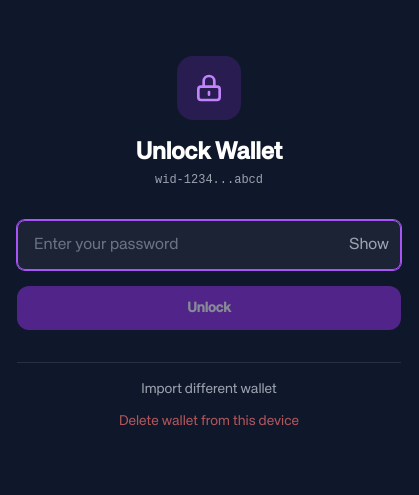
UnlockWalletPage › should show delete confirmation dialog
Click the button "Delete wallet from this device" at (209, 420), box [17,410,401,430]
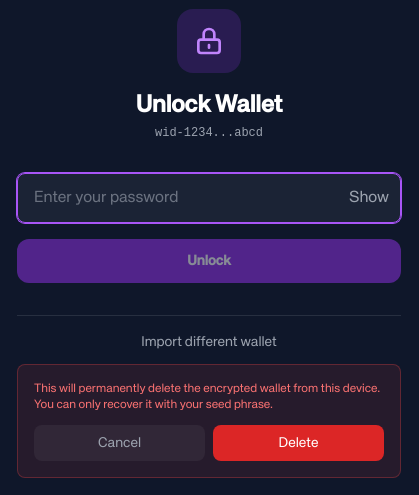
Check: the text "permanently delete the encrypted wallet" is shown, box [34,382,380,410]
Check: the button "Delete" is shown, box [213,424,384,460]
Check: the button "Cancel" is shown, box [34,424,205,460]
